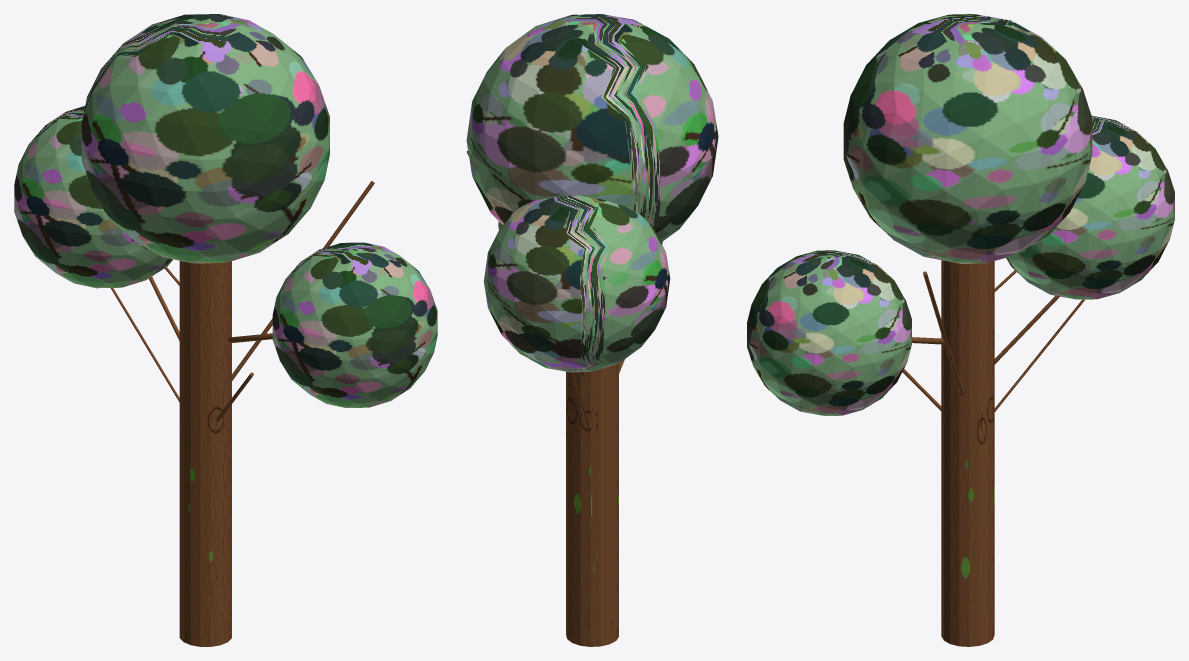
File: tree_9.glb
3 renders of one model, left to right at view 1: azimuth 30°, elevation 25°; view 2: azimuth 150°, elevation 25°; view 3: azimuth 270°, elevation 25°, orthographic.
Visible parts, largest first — view 1: tree_9_crown0, tree_9_crown2, tree_9_trunk, tree_9_crown1, tree_9_branch2; view 2: tree_9_crown0, tree_9_crown1, tree_9_trunk; view 3: tree_9_crown0, tree_9_crown2, tree_9_trunk, tree_9_crown1, tree_9_branch2.
Boxes of the visible parts, x1,y1,x2,y2 form: tree_9_crown0: (81, 14, 329, 263); tree_9_crown2: (272, 242, 437, 407); tree_9_trunk: (179, 261, 231, 646); tree_9_crown1: (14, 106, 172, 288); tree_9_branch2: (232, 181, 374, 380); tree_9_crown0: (466, 14, 718, 242); tree_9_crown1: (483, 195, 670, 372); tree_9_trunk: (566, 363, 618, 646); tree_9_crown0: (843, 14, 1092, 263); tree_9_crown2: (747, 250, 911, 415); tree_9_trunk: (941, 260, 994, 646); tree_9_crown1: (1006, 115, 1174, 299); tree_9_branch2: (923, 271, 963, 395).
Bounding box in the file's own units: 1.5 × 3.21 × 2.04.
10 materials, 10 textured.
